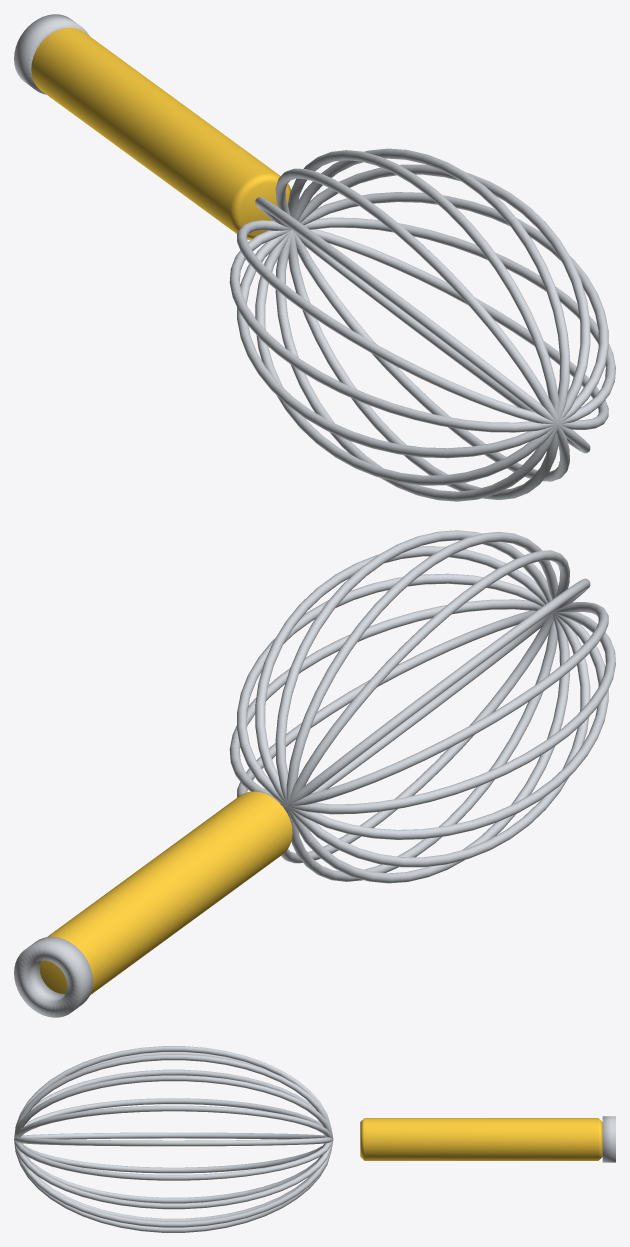
Rendered from balloon_whisk.glb.
The picture shows the model from 3 angles, top to bottom: view 1: azimuth 30°, elevation 25°; view 2: azimuth 150°, elevation 25°; view 3: azimuth 270°, elevation 25°; orthographic projection. The views are drawn at different scales.
Visible parts, largest first — view 1: Whisk_Handle, Balloon_Wire2, Balloon_Wire3, Balloon_Wire1, Balloon_Wire0, Balloon_Wire4, Balloon_Wire5, Balloon_Wire7, Balloon_Wire6, Whisk_Handle_End; view 2: Whisk_Handle, Balloon_Wire2, Balloon_Wire3, Balloon_Wire1, Balloon_Wire4, Balloon_Wire0, Balloon_Wire5, Balloon_Wire7, Balloon_Wire6, Whisk_Handle_End; view 3: Whisk_Handle, Balloon_Wire0, Balloon_Wire2, Balloon_Wire1, Balloon_Wire3, Balloon_Wire7, Balloon_Wire5, Balloon_Wire4, Balloon_Wire6, Whisk_Handle_End.
Boxes of the visible parts, box(x1,y1,x2,y2) form: Whisk_Handle: box(31, 27, 290, 240); Balloon_Wire2: box(255, 164, 590, 485); Balloon_Wire3: box(275, 148, 569, 501); Balloon_Wire1: box(237, 192, 608, 458); Balloon_Wire0: box(229, 217, 615, 432); Balloon_Wire4: box(288, 150, 559, 499); Balloon_Wire5: box(275, 168, 569, 481); Balloon_Wire7: box(237, 220, 608, 429); Balloon_Wire6: box(255, 197, 590, 453); Whisk_Handle_End: box(14, 14, 89, 94); Whisk_Handle: box(39, 791, 292, 995); Balloon_Wire2: box(255, 546, 590, 867); Balloon_Wire3: box(275, 530, 569, 883); Balloon_Wire1: box(237, 573, 608, 839); Balloon_Wire4: box(286, 532, 558, 881); Balloon_Wire0: box(229, 599, 615, 814); Balloon_Wire5: box(281, 550, 569, 863); Balloon_Wire7: box(237, 602, 608, 807); Balloon_Wire6: box(284, 578, 590, 809); Whisk_Handle_End: box(14, 936, 92, 1017); Whisk_Handle: box(360, 1118, 602, 1160); Balloon_Wire0: box(14, 1098, 333, 1180); Balloon_Wire2: box(14, 1105, 333, 1173); Balloon_Wire1: box(14, 1132, 333, 1146); Balloon_Wire3: box(14, 1075, 332, 1203); Balloon_Wire7: box(14, 1069, 332, 1209); Balloon_Wire5: box(14, 1046, 331, 1232); Balloon_Wire4: box(15, 1054, 332, 1221); Balloon_Wire6: box(14, 1052, 332, 1227); Whisk_Handle_End: box(602, 1116, 615, 1162).
Bounding box in the file's own units: 0.1133 × 0.1133 × 0.3648.
